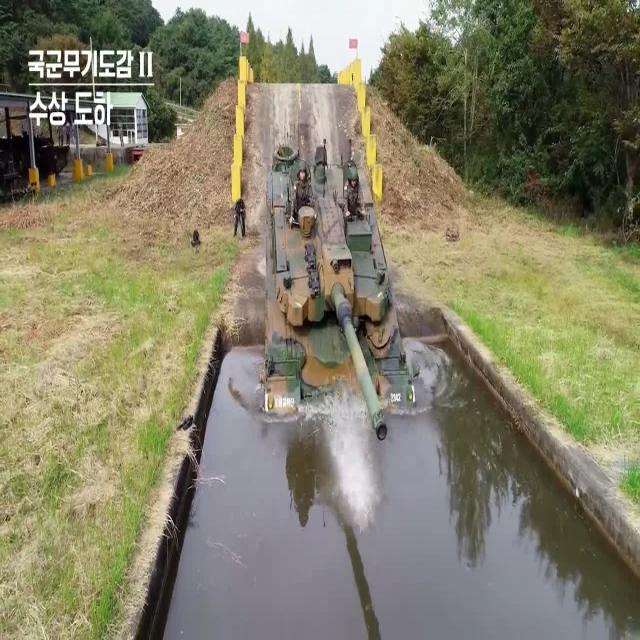korea tank: (256, 130, 420, 444)
